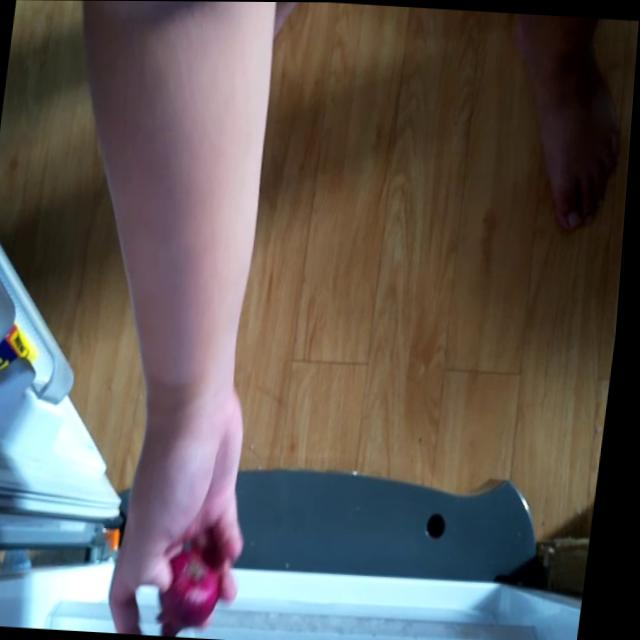onion: (161, 537, 235, 639)
